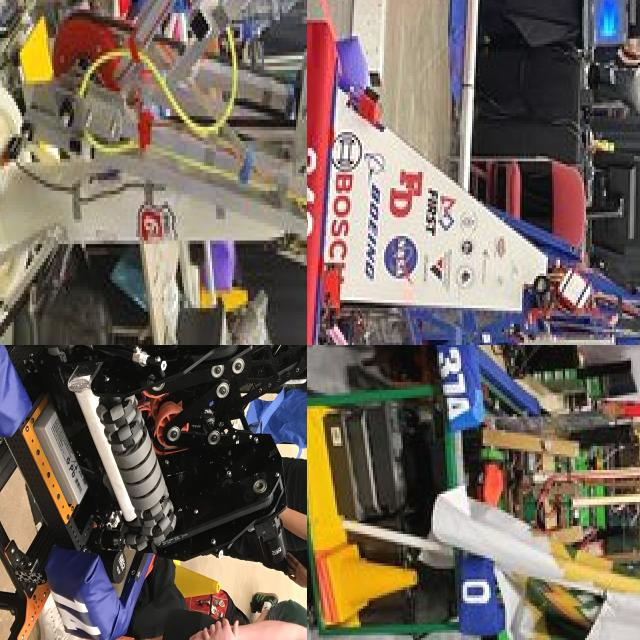FRC-Robots: (307, 0, 640, 345), (0, 0, 307, 345), (0, 345, 307, 640), (441, 345, 640, 640)
